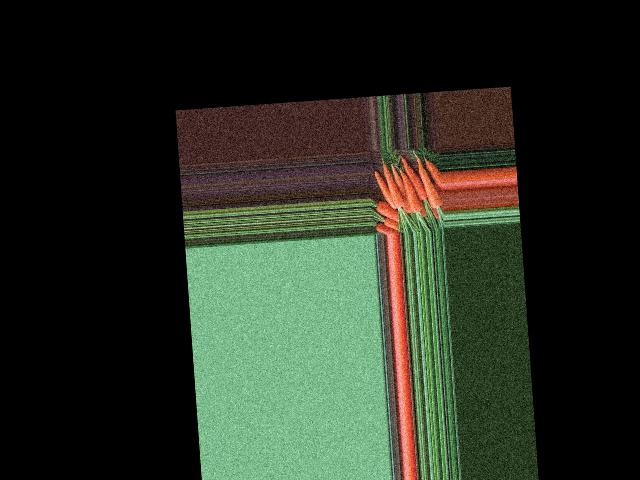carrot: (419, 150, 442, 213)
